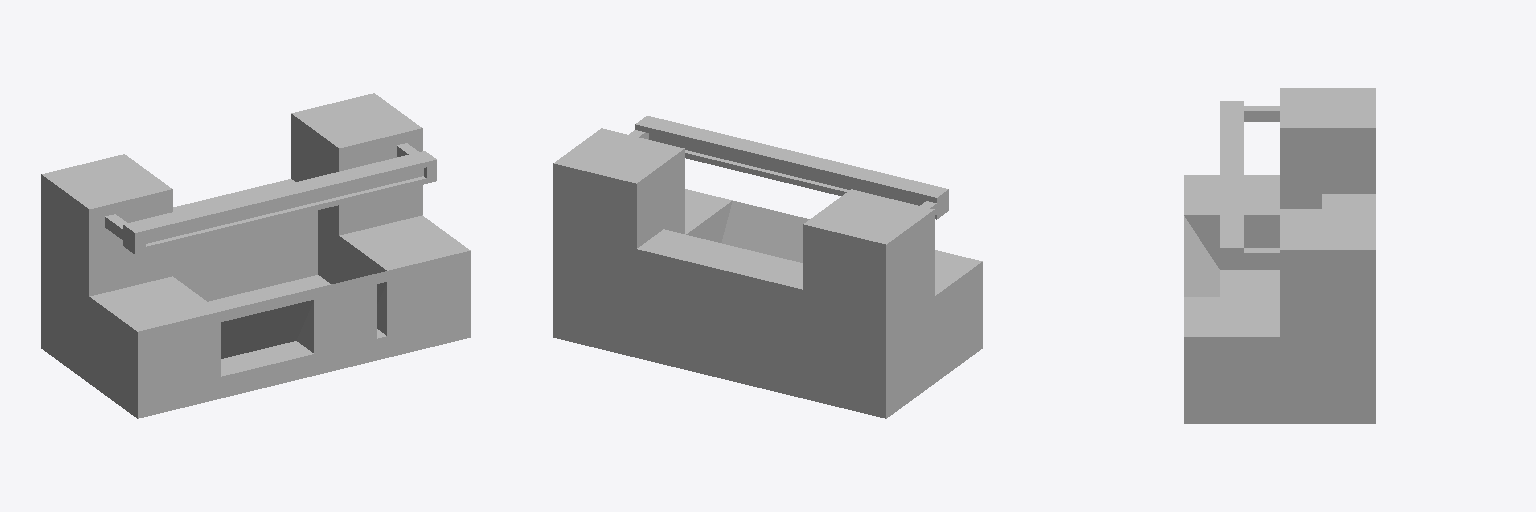
The model's file is chemical_bath_mirrored.obj.
3 renders of one model, left to right at view 1: azimuth 30°, elevation 25°; view 2: azimuth 150°, elevation 25°; view 3: azimuth 270°, elevation 25°, orthographic.
Parts seen in each view (by area): view 1: cube; view 2: cube; view 3: cube.
Part boxes in pixels (x1,y1,x2,y2): cube: (41,93,470,418); cube: (553,116,982,418); cube: (1184,88,1375,423).
Bounding box in the file's own units: 4 × 2 × 2.